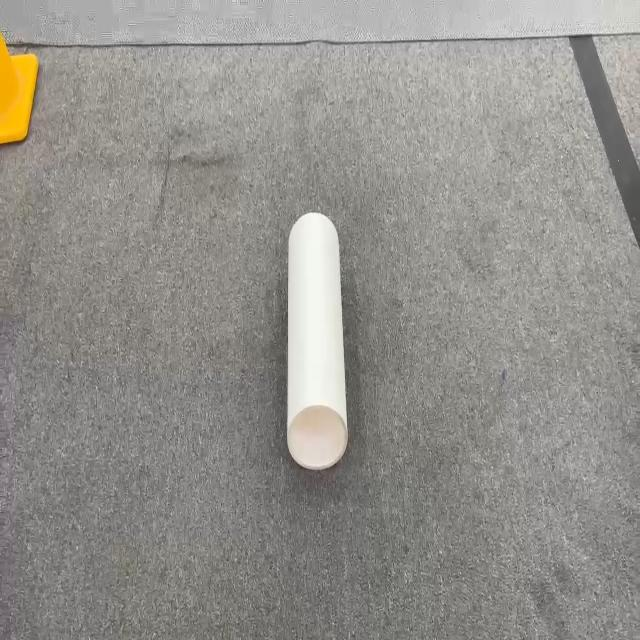coral: (286, 211, 348, 470)
